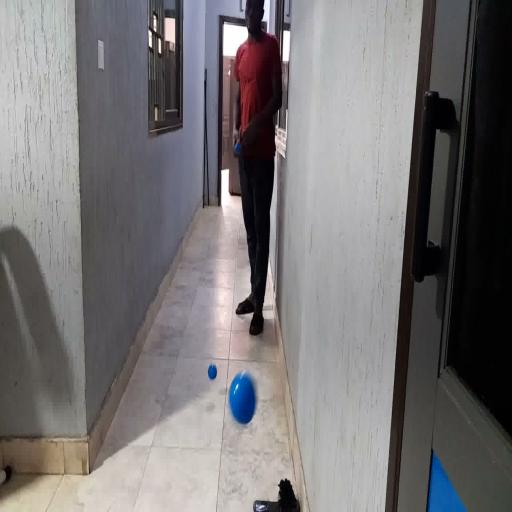plastic-ball: (226, 368, 258, 432)
